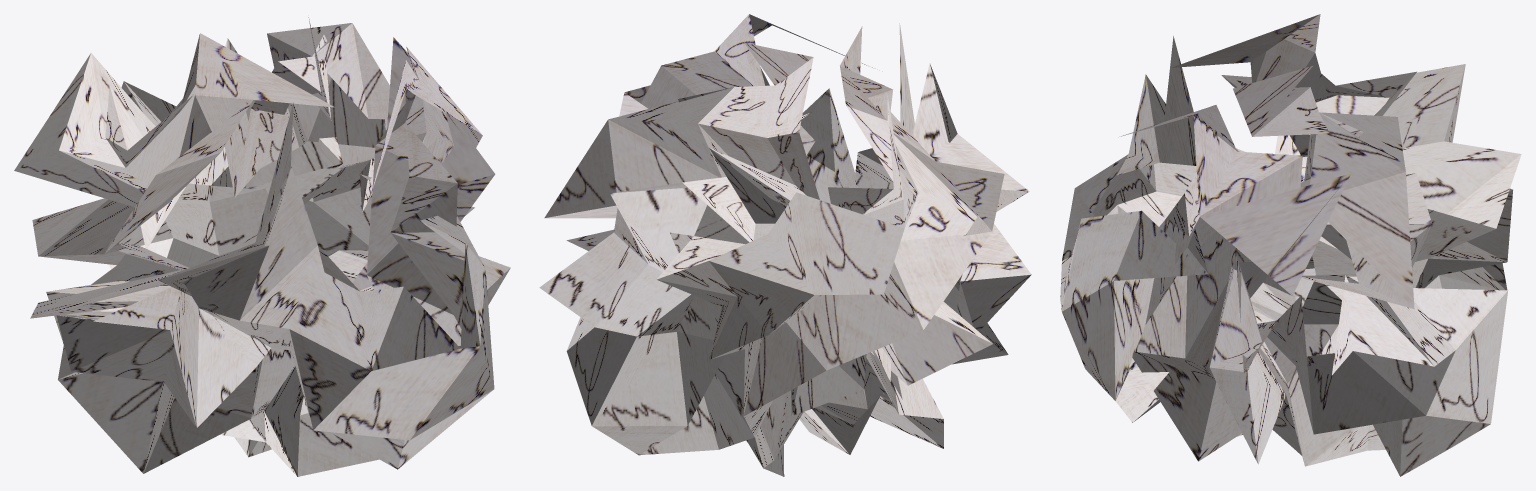
File: wrapped.glb
The picture shows the model from 3 angles, left to right: view 1: azimuth 30°, elevation 25°; view 2: azimuth 150°, elevation 25°; view 3: azimuth 270°, elevation 25°; orthographic projection. The views are drawn at different scales.
Visible parts, largest first — view 1: Plane; view 2: Plane; view 3: Plane.
Boxes of the visible parts, box(x1,y1,x2,y2) form: Plane: box(14, 17, 510, 476); Plane: box(539, 14, 1031, 476); Plane: box(1060, 14, 1521, 476).
Size of the model in its own units: 0.0891 by 0.084 by 0.0847.
Materials: 1 (1 with a texture image).
